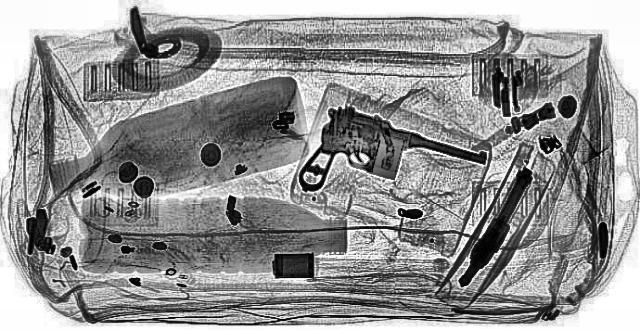Gun: (240, 101, 498, 219), (438, 166, 546, 288)
